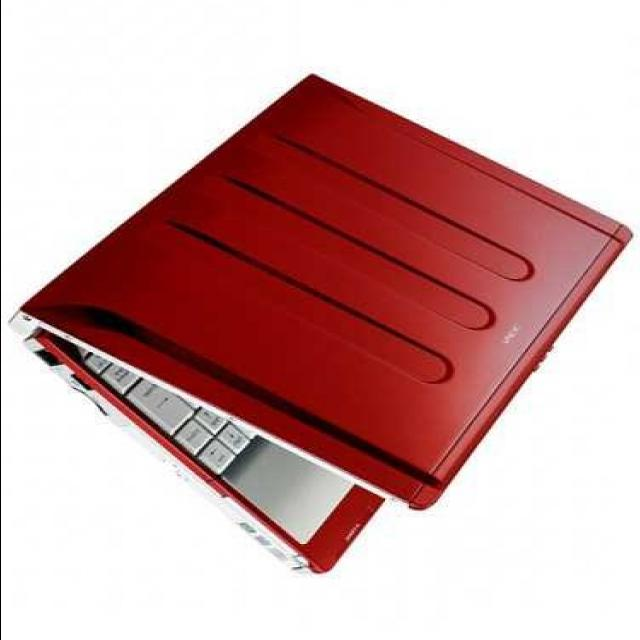laptop: (12, 56, 630, 568)
